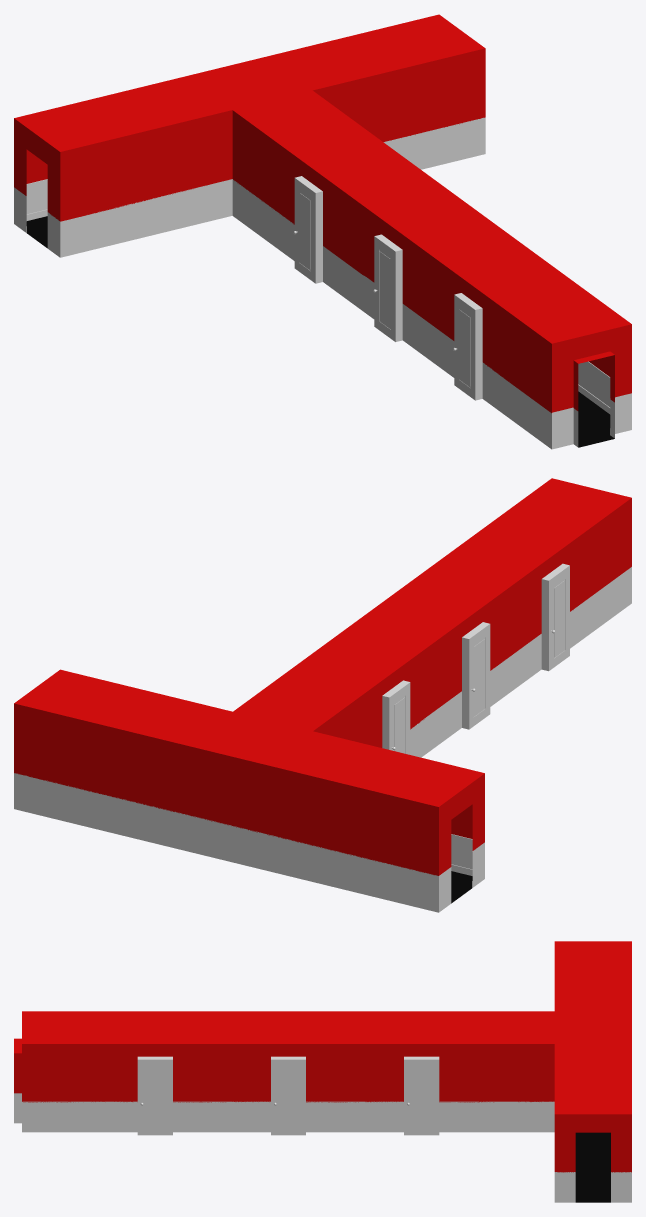
The model's file is SafeZone_Wall.fbx.
The picture shows the model from 3 angles, top to bottom: view 1: azimuth 30°, elevation 25°; view 2: azimuth 150°, elevation 25°; view 3: azimuth 270°, elevation 25°; orthographic projection. The views are drawn at different scales.
Parts seen in each view (by area): view 1: SafeZone_Wall; view 2: SafeZone_Wall; view 3: SafeZone_Wall.
Boxes of the visible parts, x1,y1,x2,y2 form: SafeZone_Wall: [14, 14, 631, 449]; SafeZone_Wall: [14, 478, 631, 912]; SafeZone_Wall: [14, 941, 631, 1202].
Size of the model in its own units: 12.62 by 3 by 19.05.
